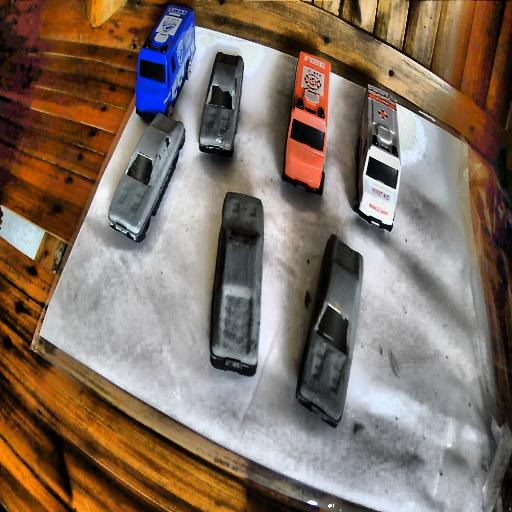ambulance: (352, 84, 400, 233)
fire_truck: (282, 52, 330, 194)
normal_car: (296, 235, 362, 424), (108, 111, 186, 244), (210, 192, 264, 375), (198, 52, 246, 159)
police car: (135, 4, 196, 122)
